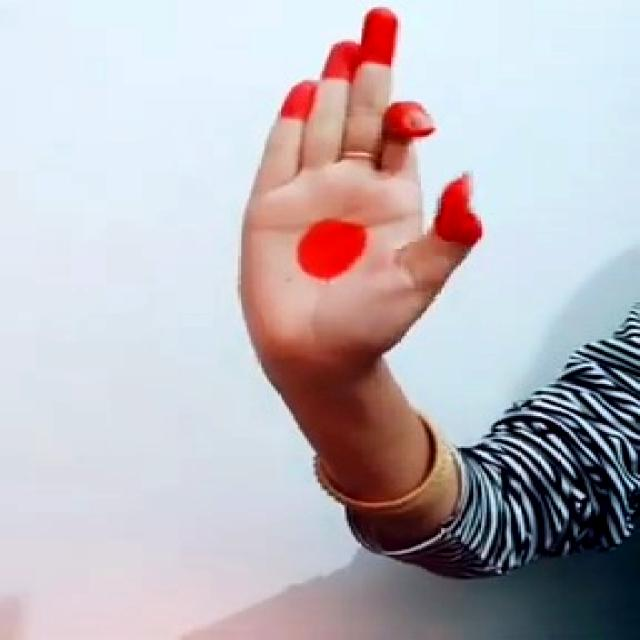Arala: (205, 10, 526, 360)
bangle: (283, 412, 467, 521)
